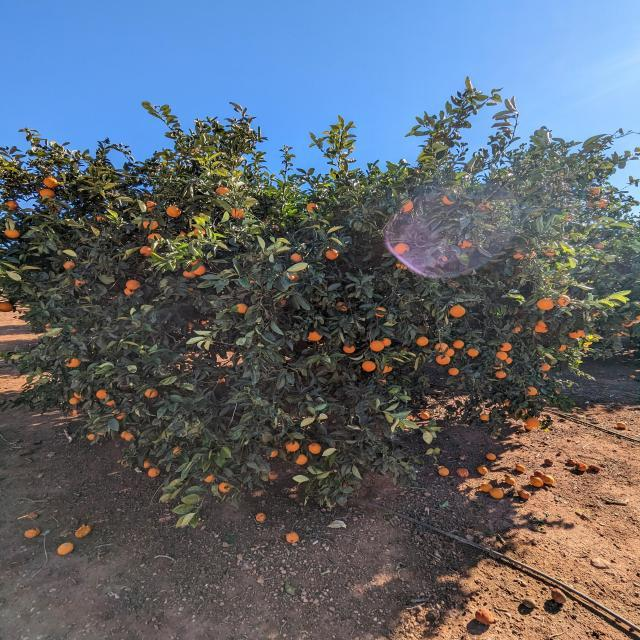Jeruk Sudah Matang: (186, 266, 208, 279), (368, 340, 388, 352), (126, 278, 142, 292), (538, 298, 556, 310), (450, 305, 466, 317), (44, 176, 60, 188), (230, 208, 247, 219), (498, 346, 511, 360), (363, 360, 378, 372), (167, 206, 181, 218), (286, 440, 300, 452), (76, 524, 90, 536), (40, 188, 54, 200), (218, 186, 232, 198), (6, 227, 19, 239), (558, 294, 571, 306), (308, 443, 322, 454), (326, 249, 340, 260), (536, 324, 550, 335), (0, 302, 15, 312), (142, 244, 154, 256), (146, 464, 158, 476), (286, 531, 299, 542), (394, 242, 407, 253), (380, 338, 393, 349), (308, 332, 322, 342), (234, 303, 248, 313), (24, 527, 38, 537), (66, 358, 80, 368), (478, 202, 492, 212), (417, 337, 429, 348), (58, 546, 71, 556), (296, 456, 309, 466), (345, 345, 358, 355), (436, 356, 449, 366), (527, 418, 540, 428), (403, 202, 414, 213), (6, 200, 16, 212), (62, 260, 74, 270), (144, 198, 156, 208), (144, 390, 158, 398), (591, 186, 601, 196), (204, 472, 214, 482), (124, 432, 134, 442), (256, 512, 266, 522), (495, 370, 505, 380), (502, 343, 512, 353), (70, 394, 80, 404), (384, 364, 394, 374), (306, 202, 316, 212), (377, 304, 387, 314), (143, 460, 153, 470), (424, 432, 434, 442), (291, 252, 302, 261), (288, 271, 299, 280), (437, 466, 449, 474), (512, 252, 524, 260), (436, 343, 448, 351), (396, 262, 408, 270), (436, 256, 448, 264), (148, 234, 161, 241), (220, 483, 230, 492), (468, 349, 478, 358), (573, 332, 584, 340), (143, 220, 154, 228), (86, 433, 97, 441), (461, 241, 472, 249), (597, 200, 608, 208), (193, 228, 204, 236), (96, 390, 106, 398), (528, 388, 538, 396), (542, 365, 552, 373), (339, 302, 349, 310), (511, 326, 521, 334), (450, 370, 460, 378), (72, 278, 82, 286), (218, 378, 228, 386), (480, 414, 490, 422), (446, 348, 456, 356), (455, 340, 464, 348), (270, 450, 279, 458), (174, 446, 182, 454), (118, 412, 126, 420), (96, 216, 106, 222), (106, 400, 116, 406), (443, 198, 451, 205), (280, 298, 288, 305), (560, 346, 568, 352)
